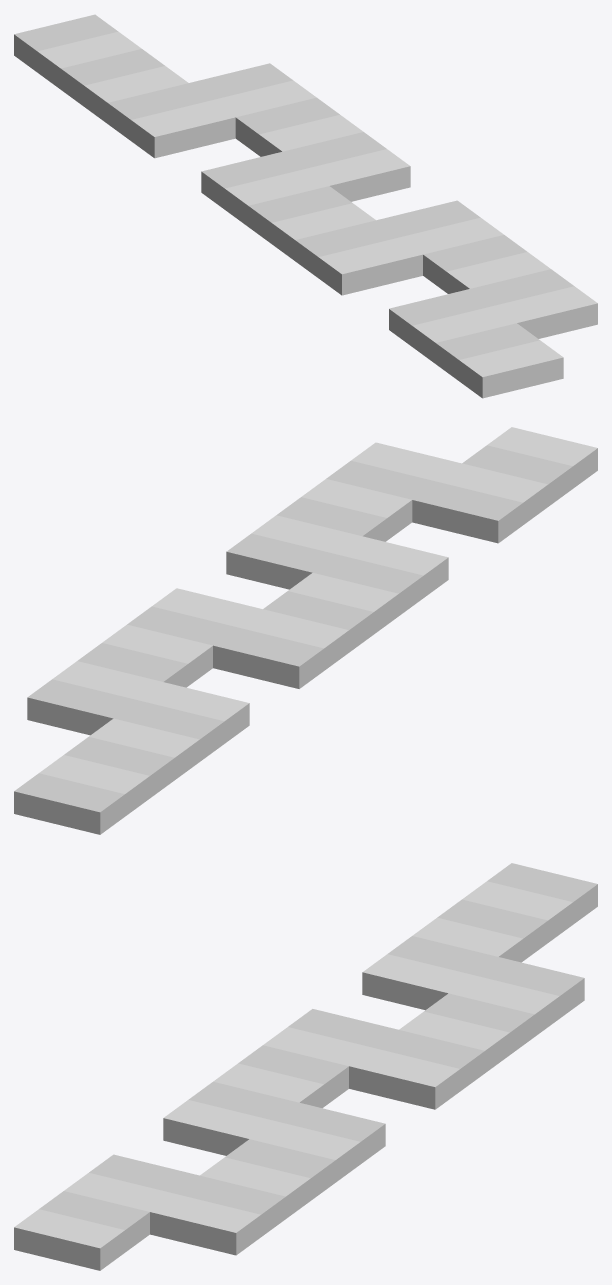
File: road_08.fbx
The picture shows the model from 3 angles, top to bottom: view 1: azimuth 30°, elevation 25°; view 2: azimuth 150°, elevation 25°; view 3: azimuth 330°, elevation 25°; orthographic projection. The views are drawn at different scales.
Parts seen in each view (by area): view 1: road_08; view 2: road_08; view 3: road_08.
Part boxes in pixels (<box>): road_08: <box>14,14,597,398</box>; road_08: <box>14,427,597,834</box>; road_08: <box>14,863,597,1270</box>.
Size of the model in its own units: 20.42 by 2.55 by 102.
